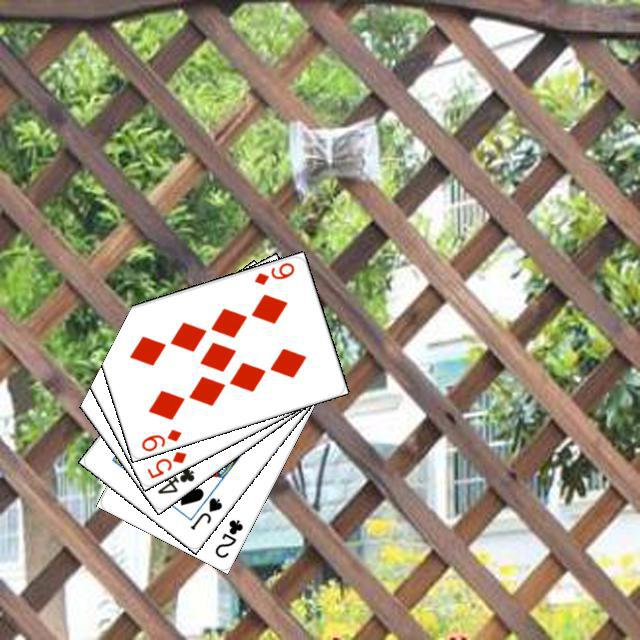2c: (210, 514, 245, 560)
4c: (152, 462, 196, 496)
5d: (142, 446, 188, 480)
9d: (249, 257, 296, 287), (136, 424, 183, 453)
Js: (185, 492, 224, 532)
